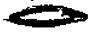Mouth: (3, 4, 89, 29)
